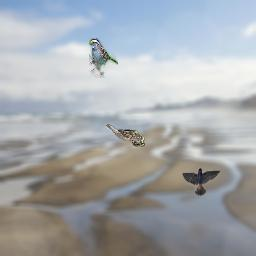Sparrow: (89, 38, 118, 78), (105, 124, 145, 147)
Swallow: (182, 167, 222, 196)
